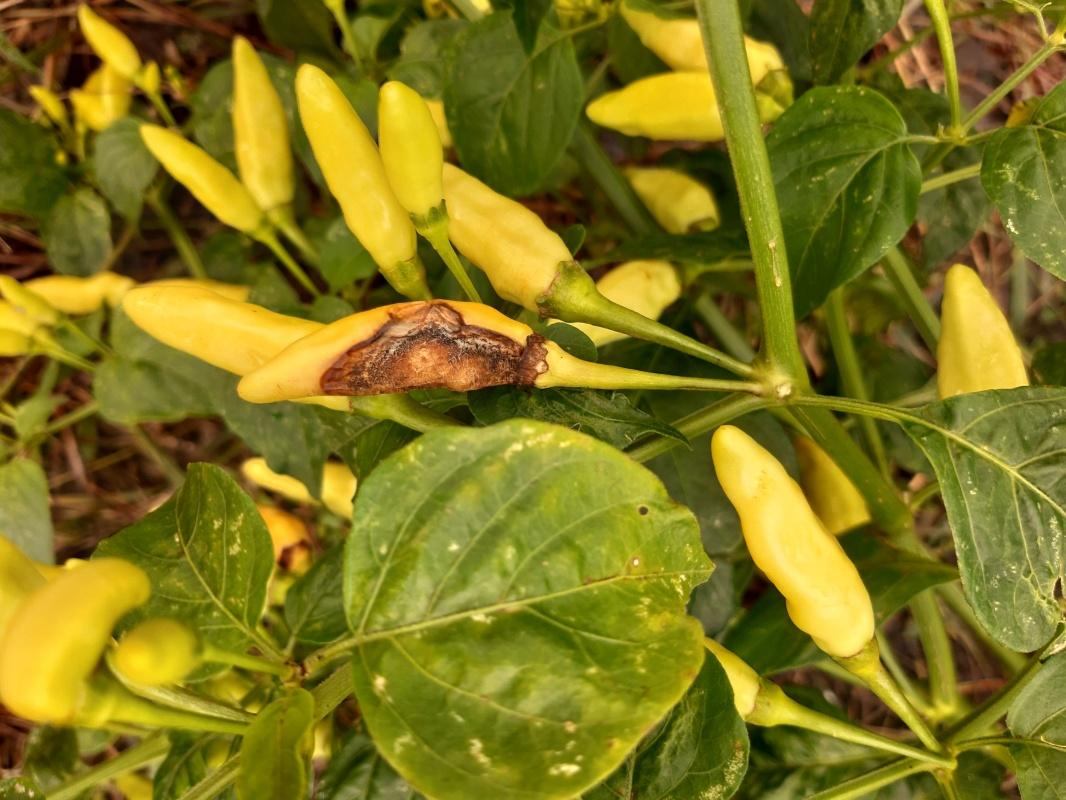antraknosa: (237, 299, 565, 405)
cabai_normal: (712, 424, 874, 659), (293, 63, 425, 290), (1, 554, 152, 724), (440, 157, 578, 313), (616, 1, 788, 93), (924, 251, 1031, 392), (139, 123, 265, 235), (583, 69, 762, 145), (375, 80, 465, 222), (226, 37, 295, 215), (78, 2, 146, 83), (118, 622, 196, 685)
